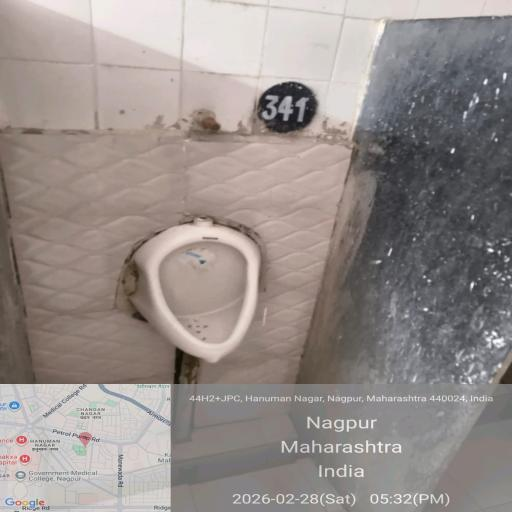clean_indian: (115, 219, 274, 374)
partial_dirty_floor: (23, 116, 380, 498)
